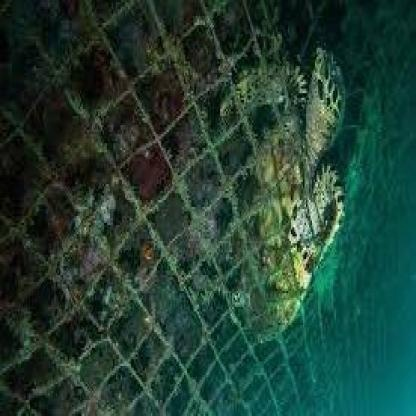net: (8, 2, 410, 416)
